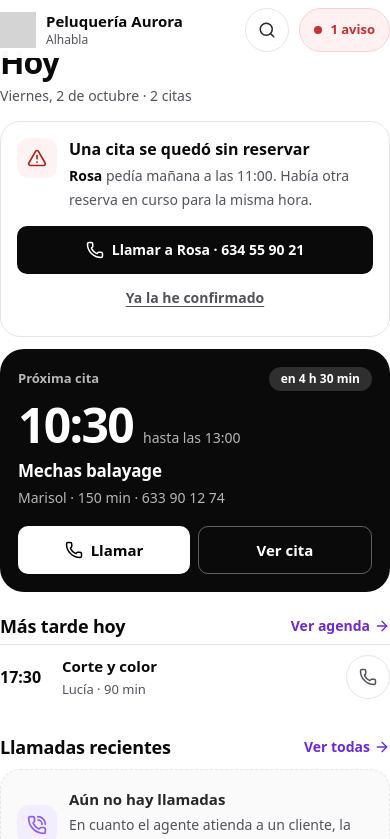
Scenario: InicioMovil › el chip de estado cuenta los avisos y abre su hoja
Click the button with aria-label "Estado del servicio: 1 aviso": x=345, y=30 top-left (300, 8), bottom-right (389, 52)
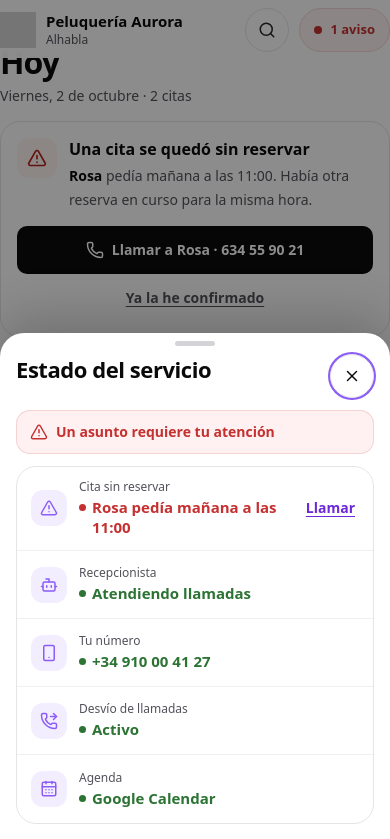
Expected: the text "Un asunto requiere tu atención" is shown, top-left (16, 410), bottom-right (374, 454)
Expected: the text "Cita sin reservar" is shown, top-left (79, 478), bottom-right (170, 495)
